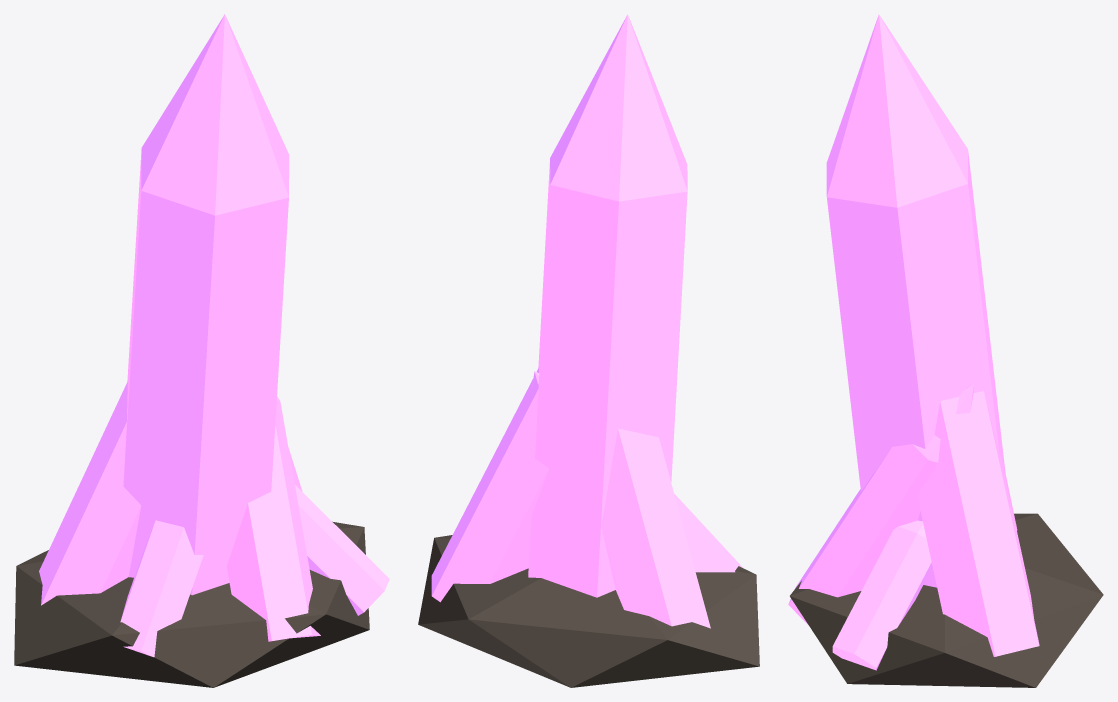
Rendered from mine_crystal_large.glb.
3 renders of one model, left to right at view 1: azimuth 30°, elevation 25°; view 2: azimuth 150°, elevation 25°; view 3: azimuth 270°, elevation 25°, orthographic. The views are drawn at different scales.
Visible parts, largest first — view 1: mine_crystal_large; view 2: mine_crystal_large; view 3: mine_crystal_large.
Part boxes in pixels (x1,y1,x2,y2): mine_crystal_large: (14, 14, 389, 687); mine_crystal_large: (418, 14, 759, 687); mine_crystal_large: (788, 14, 1103, 687).
Size of the model in its own units: 1.23 by 2.19 by 1.
